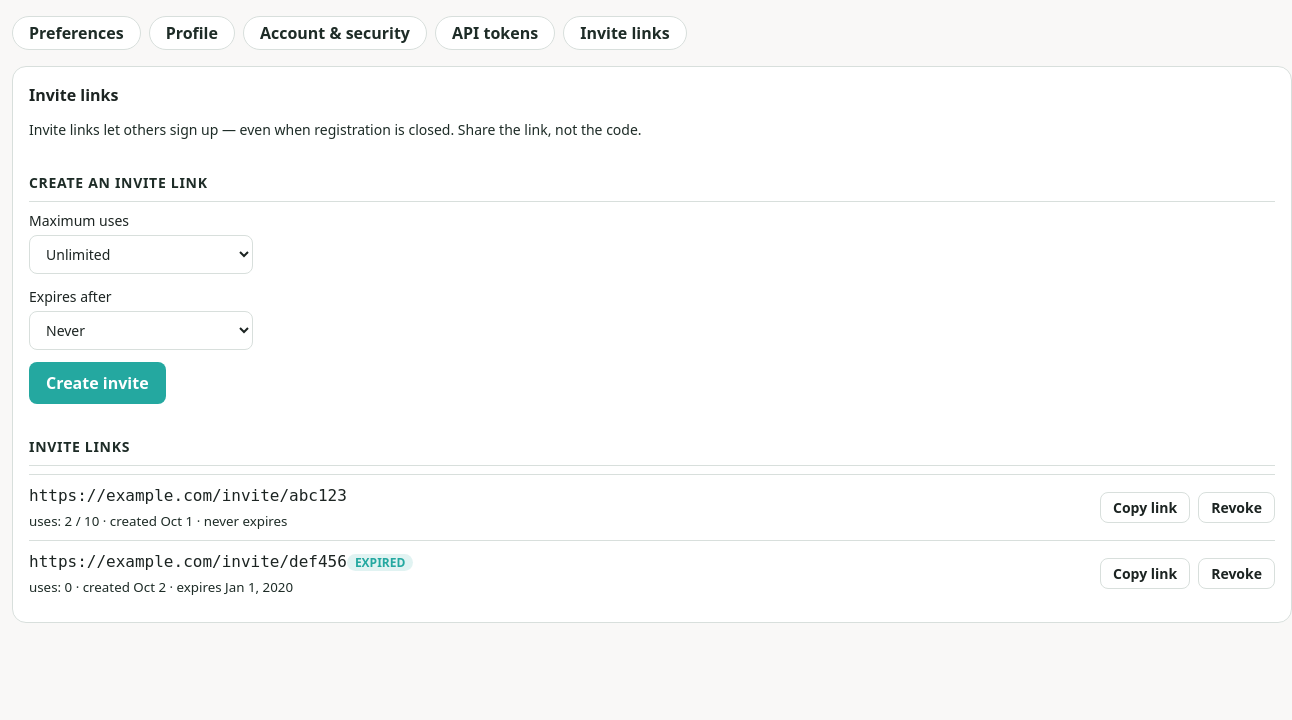
Test: InvitesSettingsPage › revokes an invite after a two-click confirm
Click the button "Revoke" in the row of "https://example.com/invite/abc123" at (1237, 508), box [1198,492,1275,523]
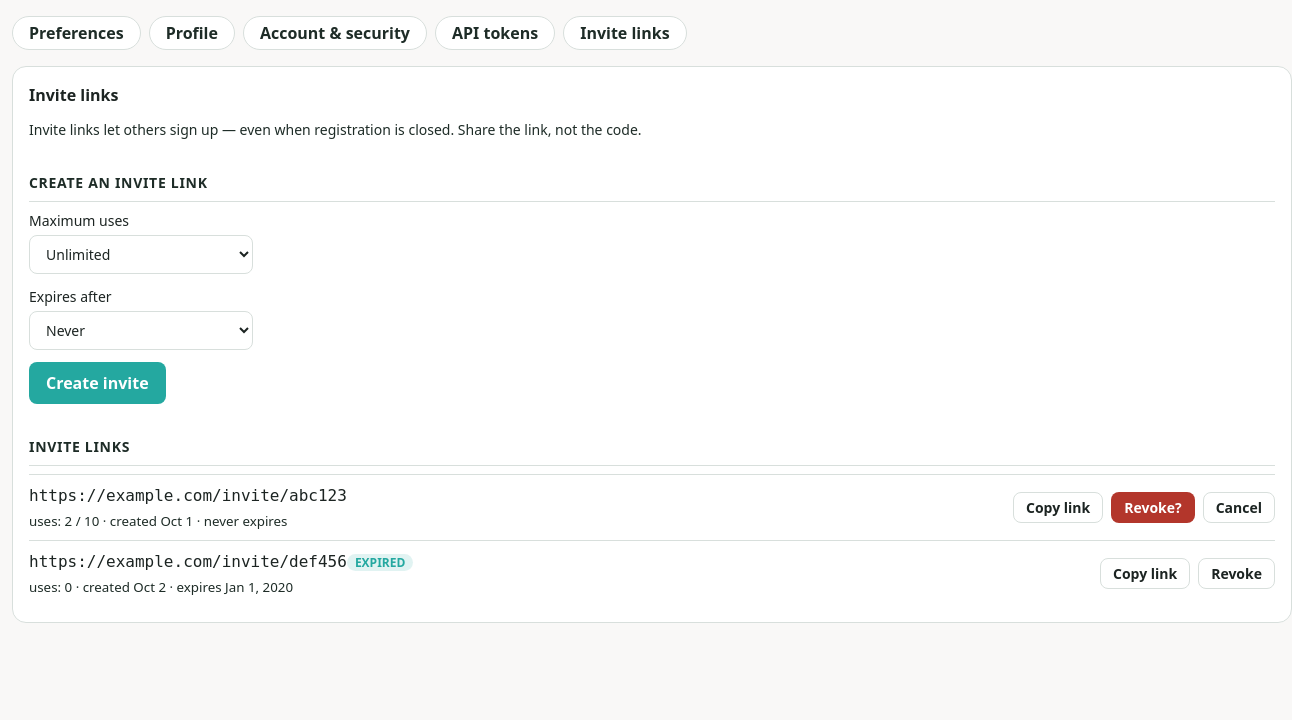
Click the button "Revoke?" at (1153, 508), box [1111,492,1195,523]
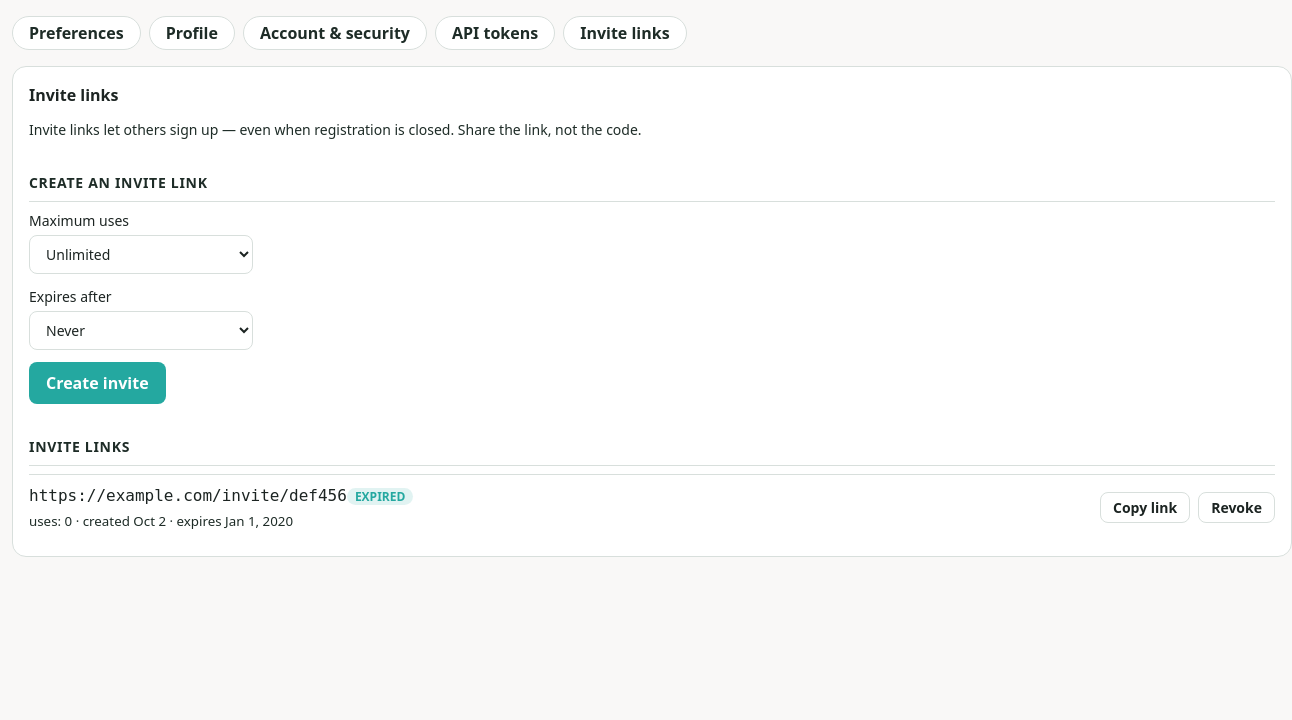
Result: the number of list items with class "invites__row" is 1 at [29,474,1275,540]
